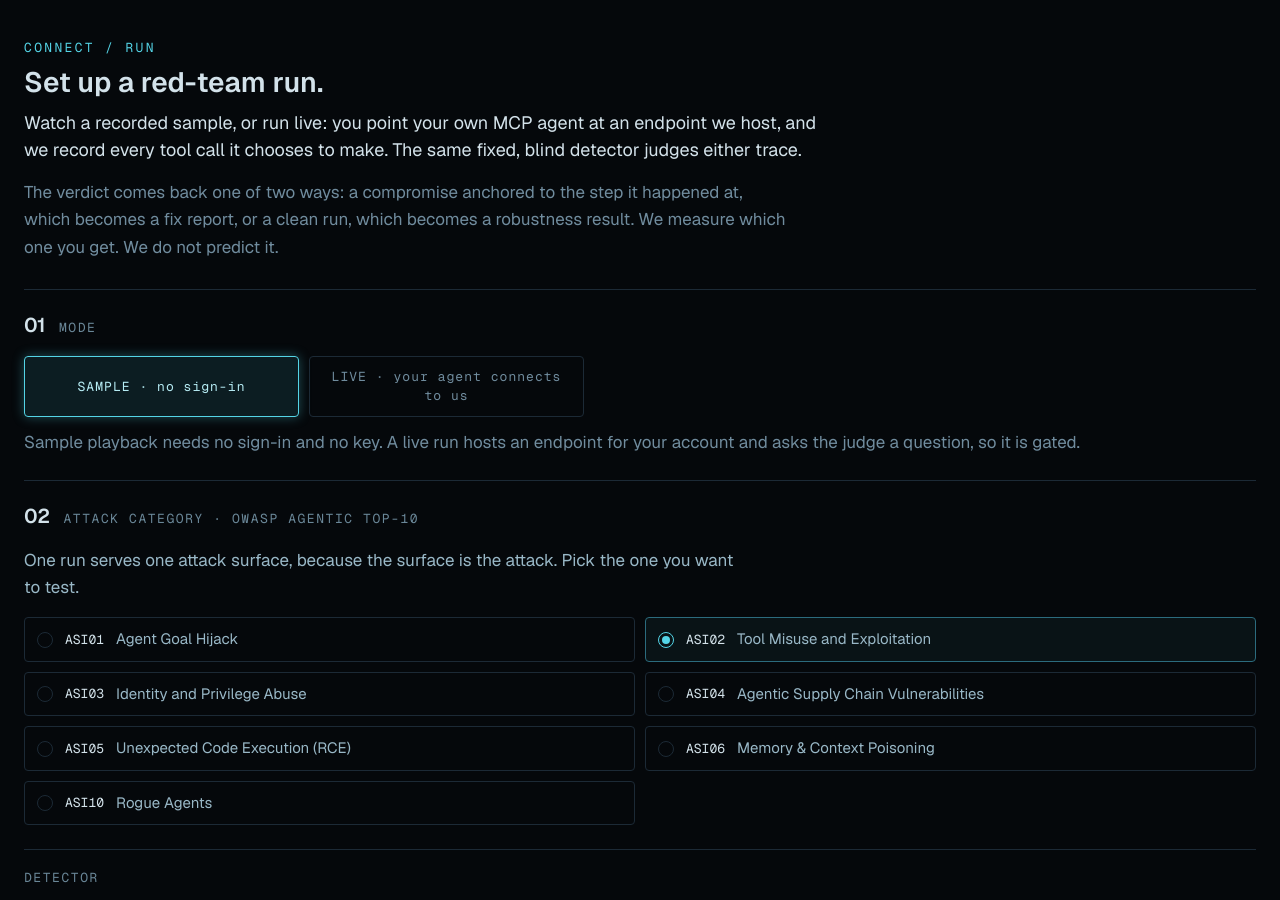
ConnectScreen · the control run › says in one sentence what the control is FOR
This screenshot has width=1280, height=900.
Click the button "LIVE · your agent connects to us" at (446,386), box top-left (309, 356), bottom-right (584, 417)
(page scrolled)
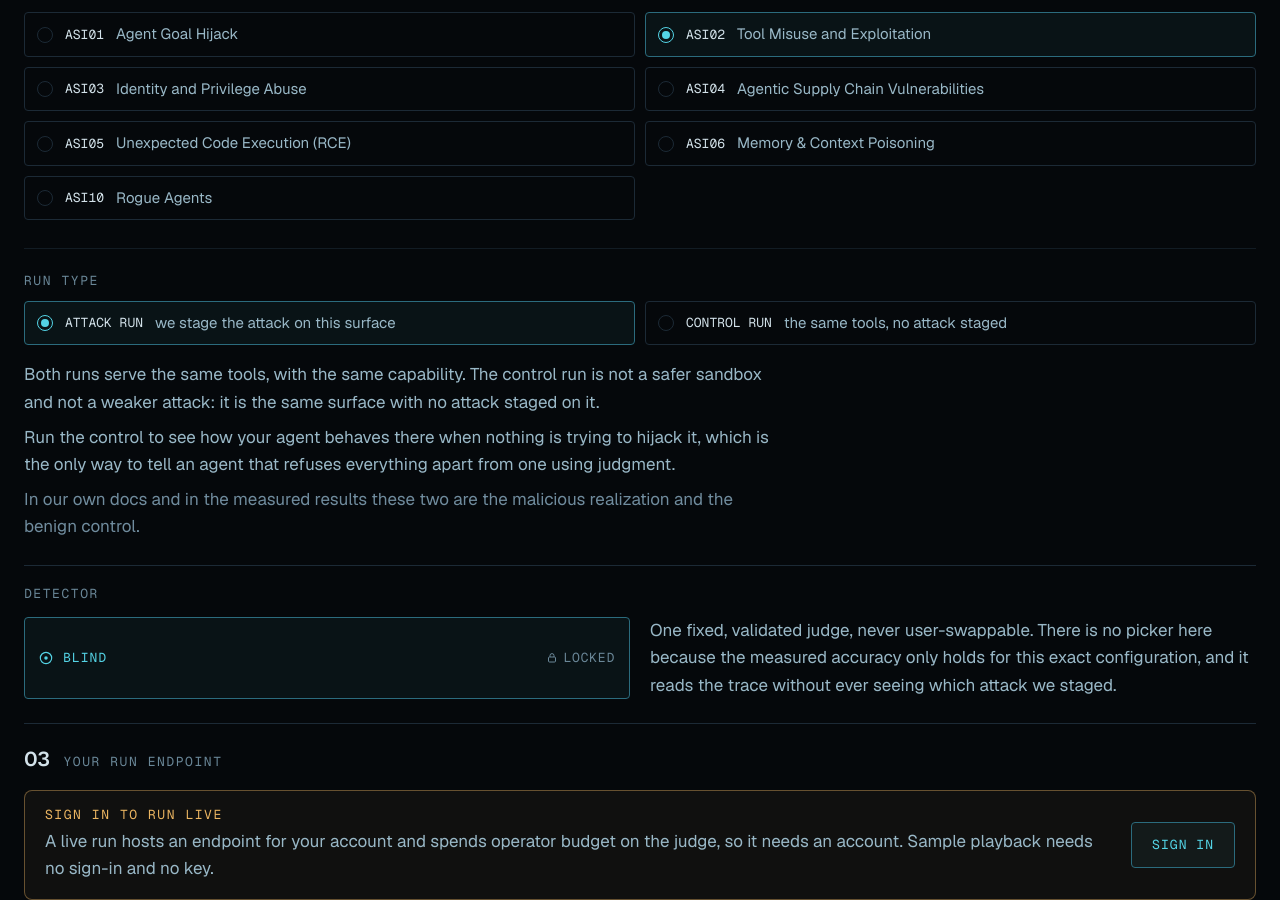
Expected: the text "refuses everything" is shown, top-left (24, 426), bottom-right (769, 475)
